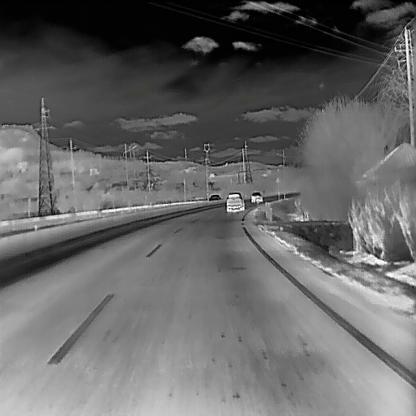car: (226, 192, 243, 211), (250, 190, 263, 203), (207, 193, 219, 203)
